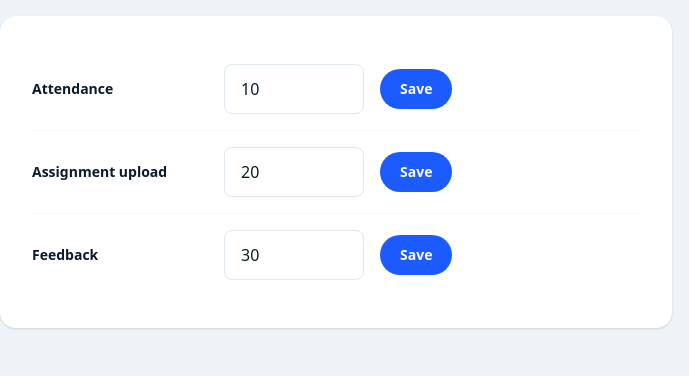
Test case: PointRulesTable (US4) › renders a rejection as an alert (prior persisted value unchanged, FR-021)
Clear the number field labelled "Feedback". click: (294, 255)
box: [224,230,364,280]
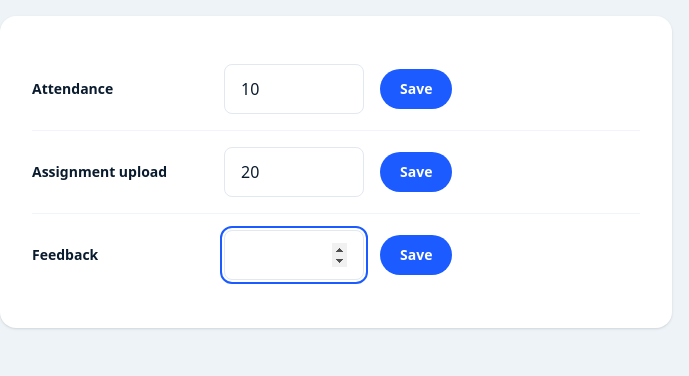
Click the button "Save" in the row of "Feedback". click: (416, 255)
box: [380,235,452,275]
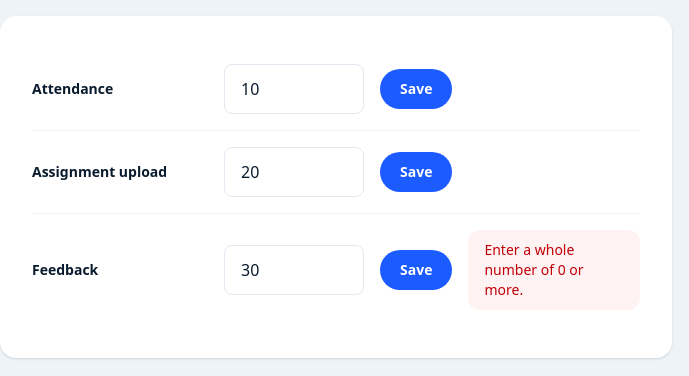
Expected: the message reads "Enter a whole number of 0 or more.", [484,240,584,299]
